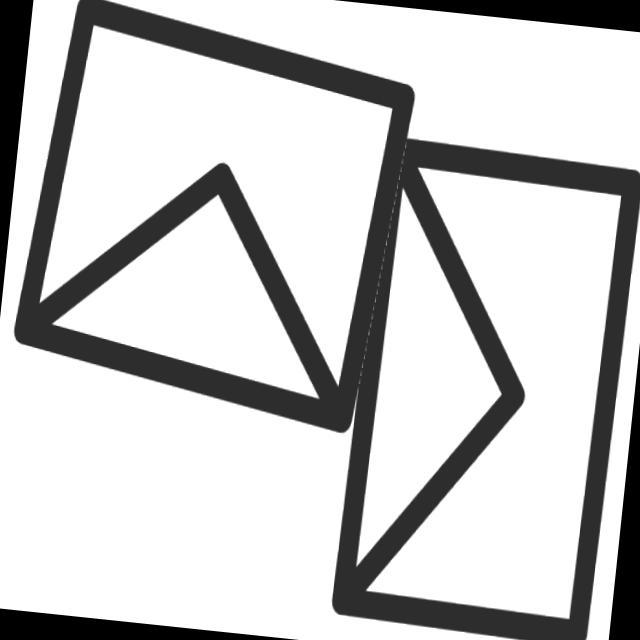letter: (1, 1, 427, 448), (312, 122, 640, 640)
